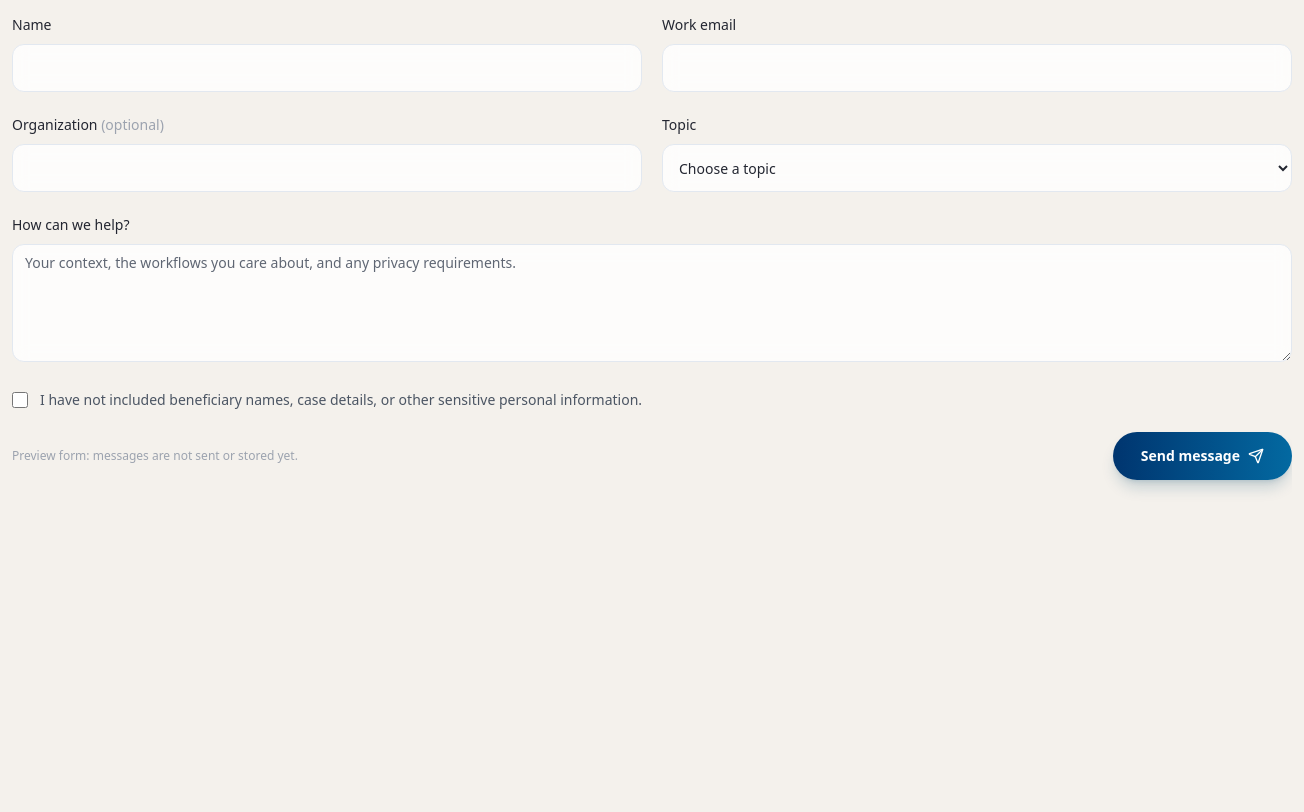
Test case: contact form › flags missing fields and accepts a complete message without sending it
Step 1. Click the button "Send message" → click(1202, 456), box [1113,432,1292,480]
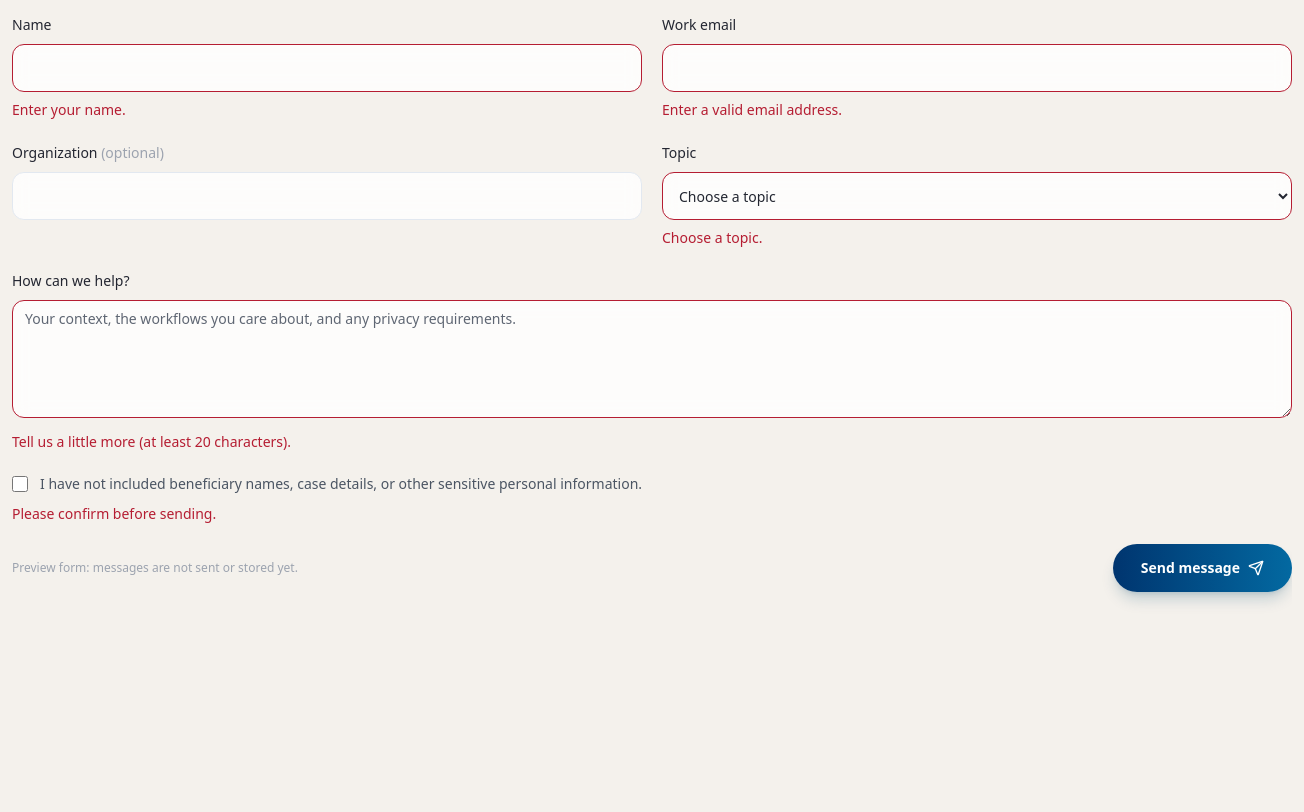
Result: the text "Enter your name." is shown at [12,100,126,119]
Step 2. Type "Synthetic Person" into the field labelled "Name" → (327, 68), box [12,44,642,92]
Step 3. Type "team@example.org" into the field labelled "Work email" → (977, 68), box [662,44,1292,92]
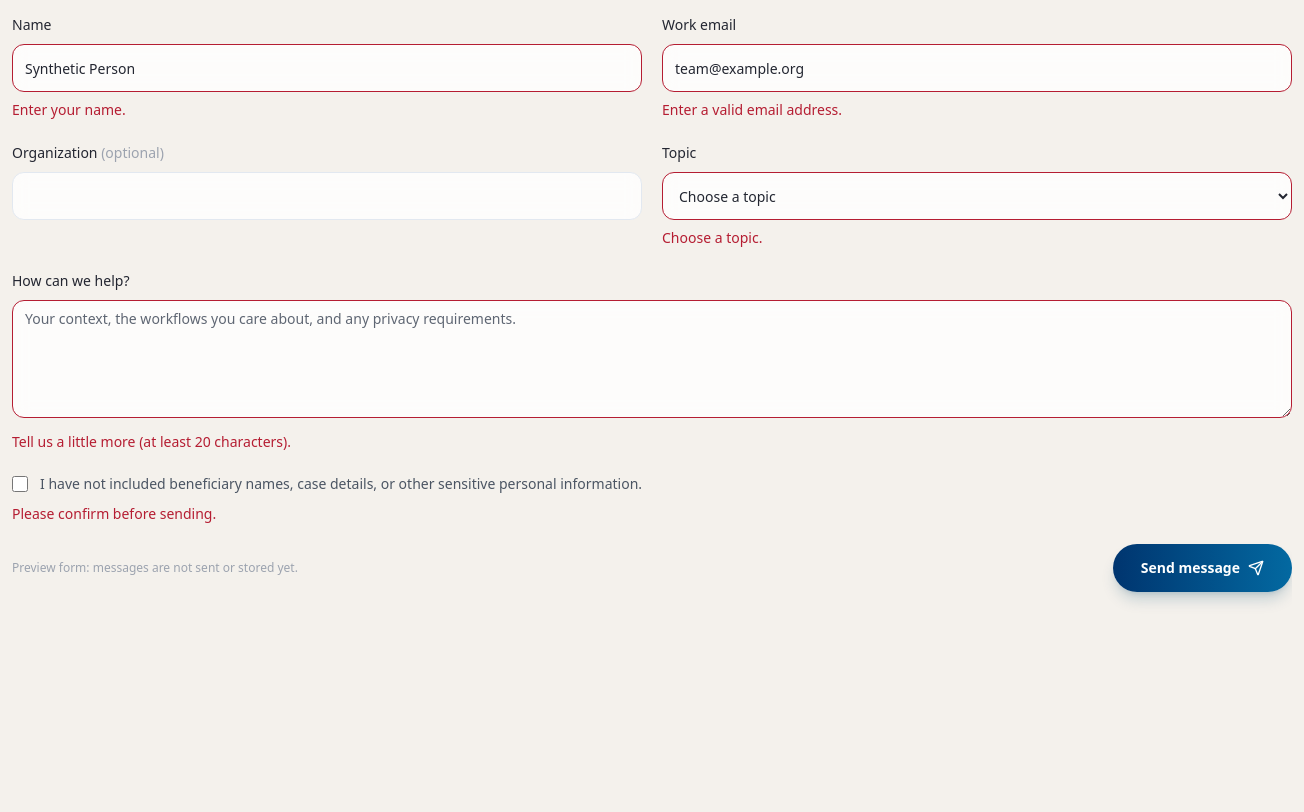
Step 4. Select "Pilot" in the dropdown labelled "Topic" → (977, 196), box [662,172,1292,220]
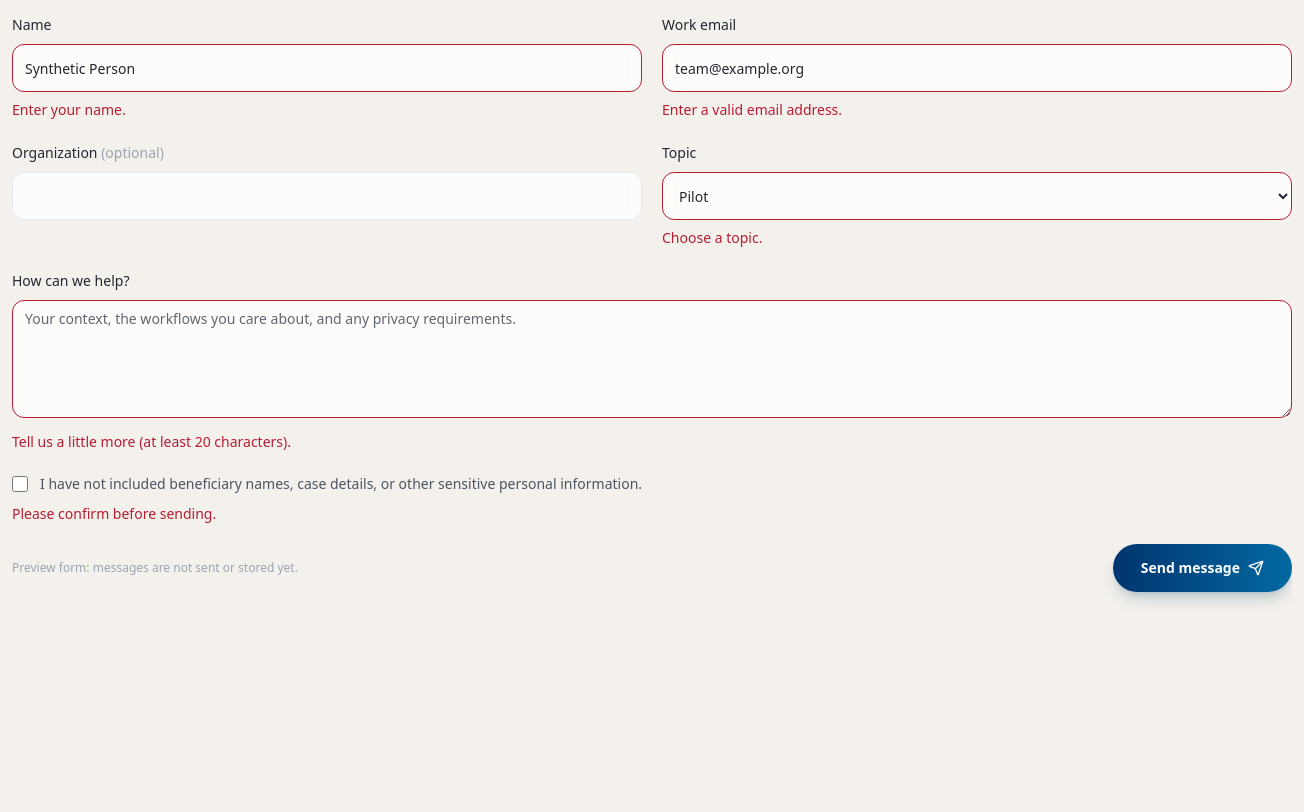
Step 5. Replace the text in the text box labelled "How can we help?" with "We want to explore a pilot for our monitoring workflow." → (652, 359), box [12,300,1292,418]
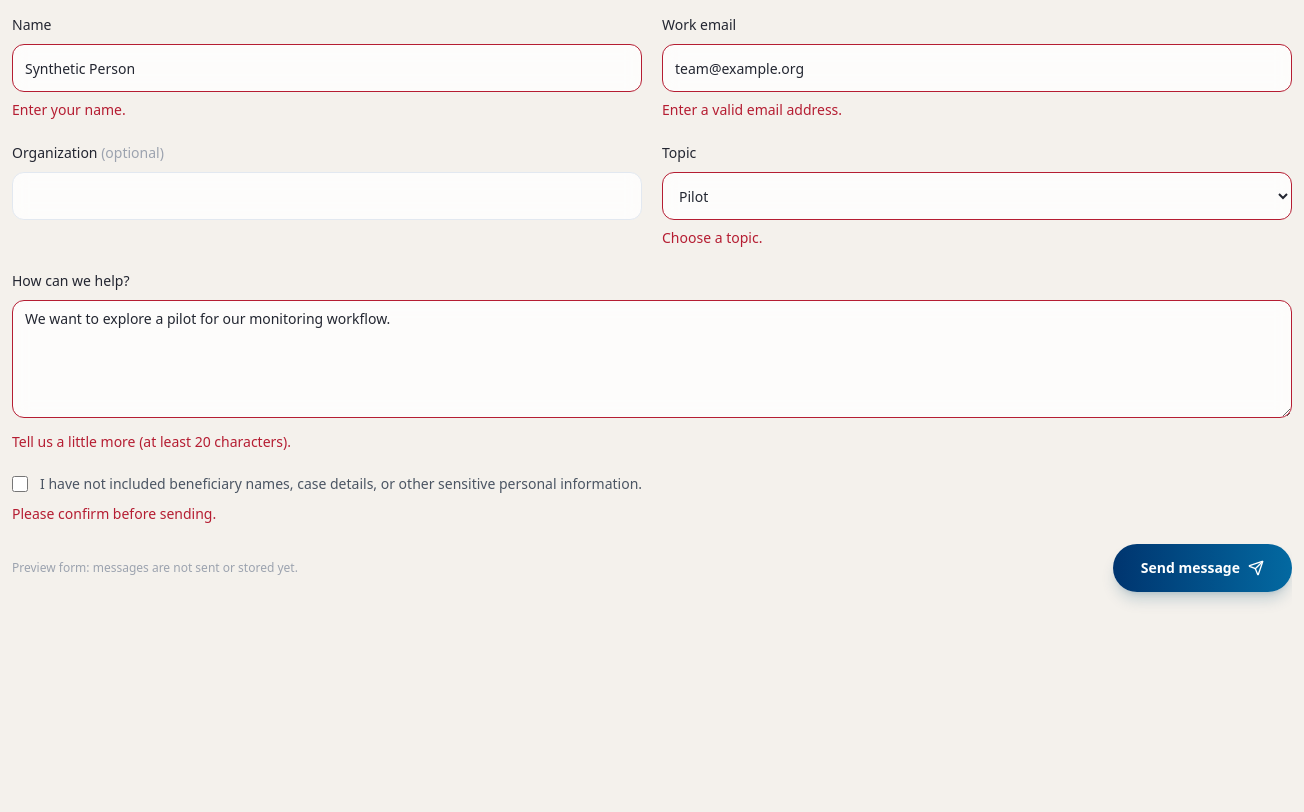
Step 6. Click the checkbox → click(20, 484), box [12,476,28,492]
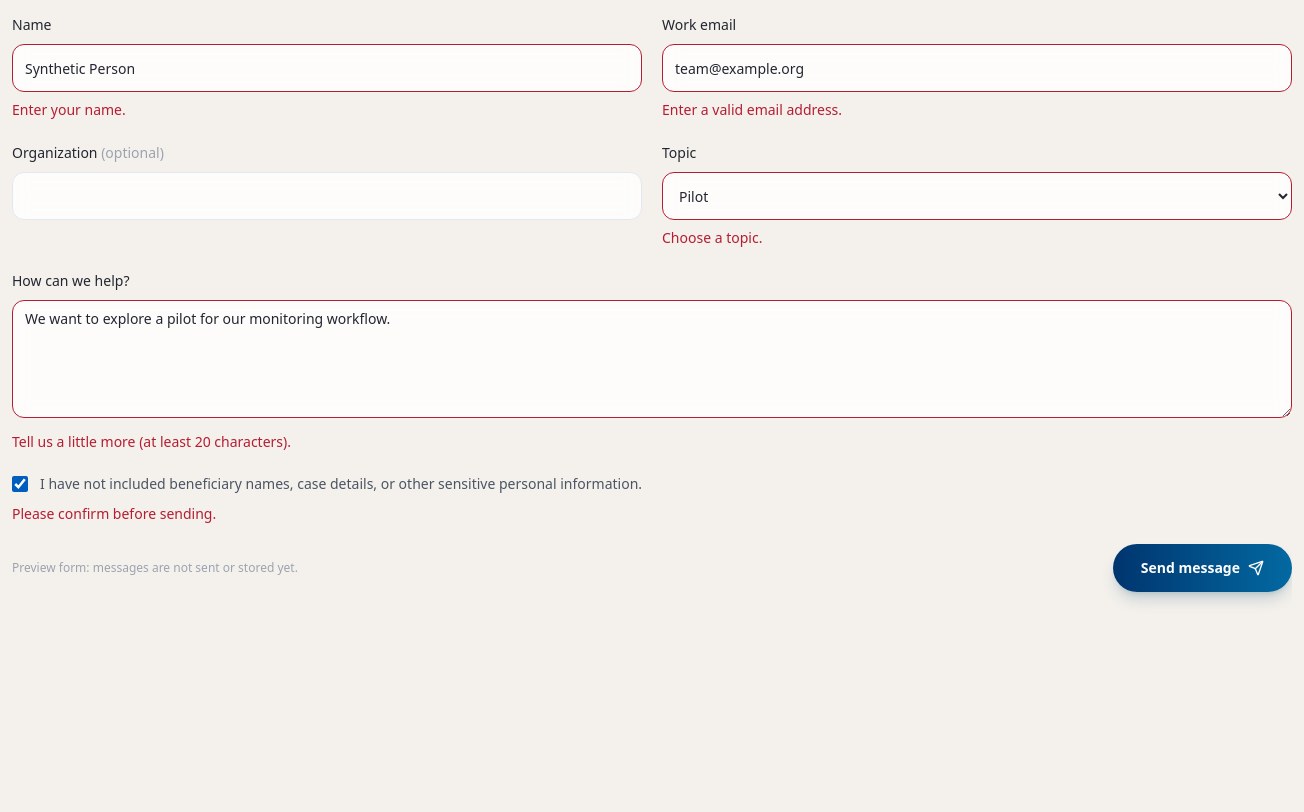
Step 7. Click the button "Send message" → click(1202, 568), box [1113,544,1292,592]
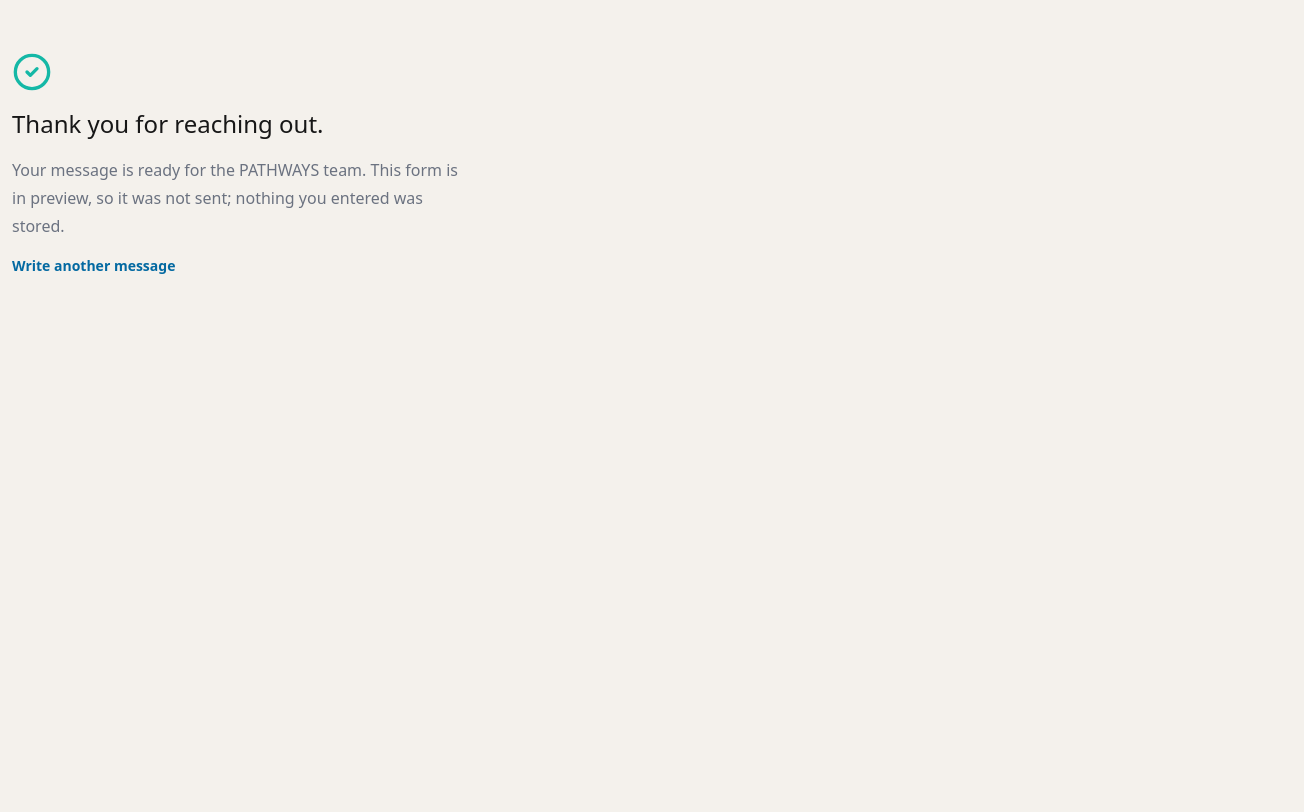
Result: the heading "Thank you for reaching out." is shown at [12,108,324,140]
Result: the text "it was not sent" is shown at [12,159,458,237]
